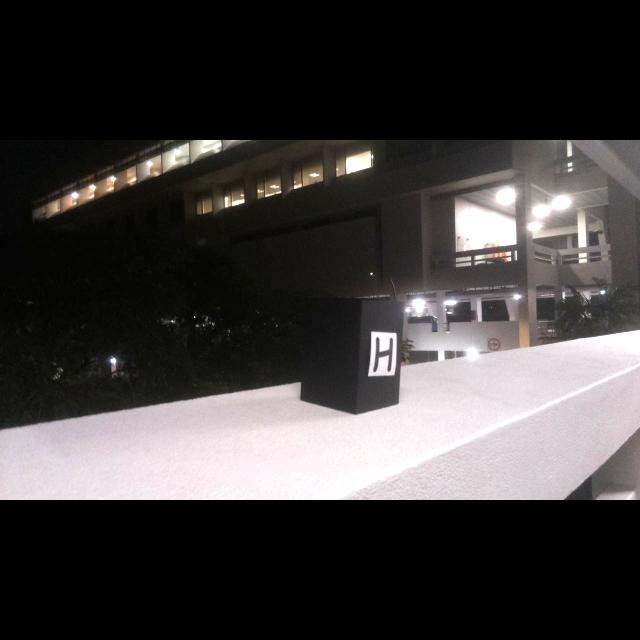H: (374, 337, 393, 372)
